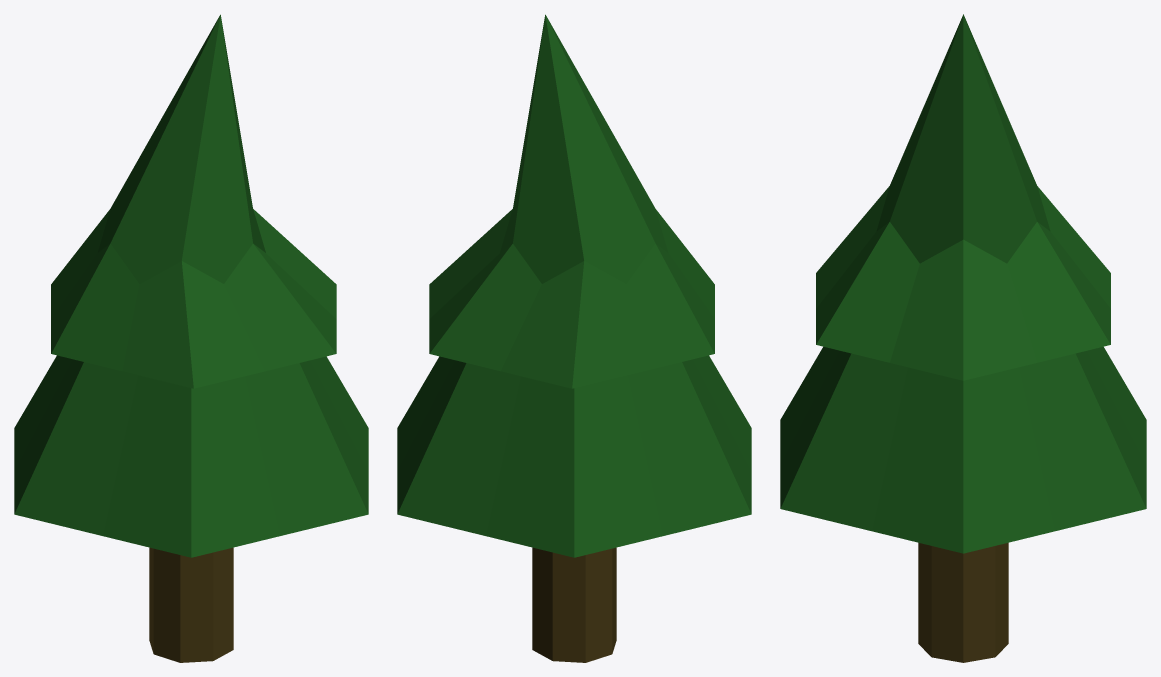
Rendered from tree1.fbx.
3 renders of one model, left to right at view 1: azimuth 30°, elevation 25°; view 2: azimuth 150°, elevation 25°; view 3: azimuth 270°, elevation 25°, orthographic. The views are drawn at different scales.
Parts seen in each view (by area): view 1: tree1, tronc_1_2_4; view 2: tree1, tronc_1_2_4; view 3: tree1, tronc_1_2_4.
Boxes of the visible parts, x1,y1,x2,y2 form: tree1: (14, 14, 368, 557); tronc_1_2_4: (149, 547, 233, 662); tree1: (397, 14, 751, 557); tronc_1_2_4: (532, 547, 616, 662); tree1: (780, 14, 1146, 553); tronc_1_2_4: (918, 542, 1008, 662).
Size of the model in its own units: 6.56 by 11.03 by 5.68.
